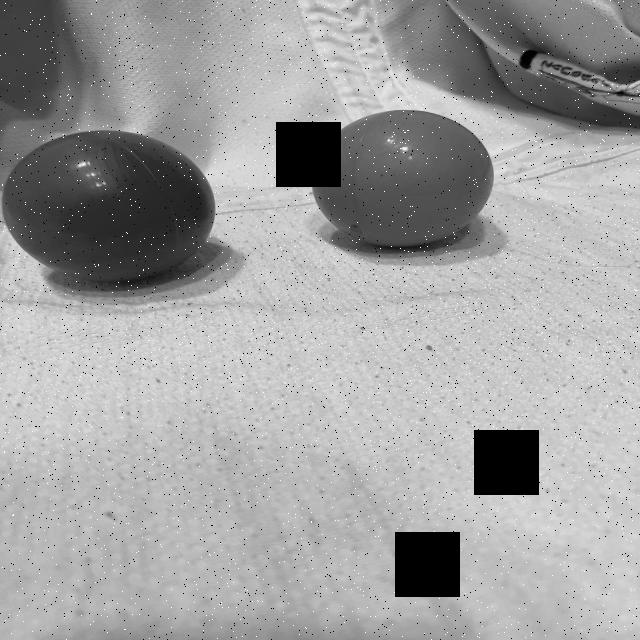ball: (2, 125, 217, 287), (309, 107, 498, 252)
